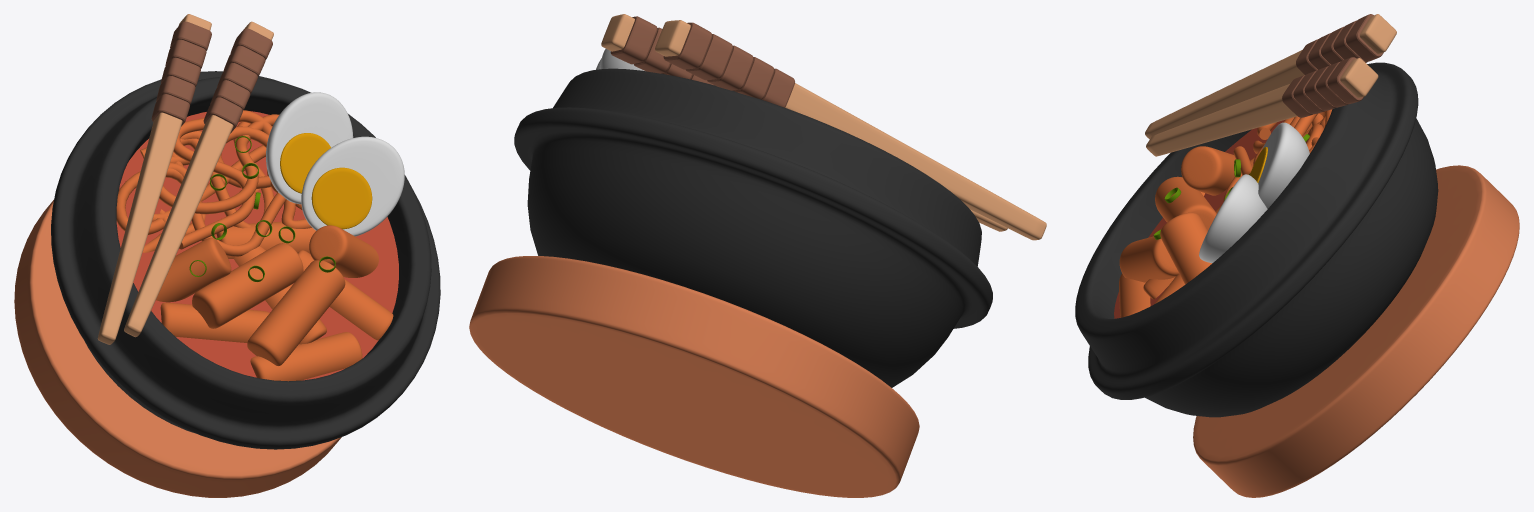
Rendered from rabokki.glb.
The picture shows the model from 3 angles, left to right: view 1: azimuth 30°, elevation 25°; view 2: azimuth 150°, elevation 25°; view 3: azimuth 270°, elevation 25°; orthographic projection. The views are drawn at different scales.
Visible parts, largest first — view 1: Sphere.006, Cylinder.079, NurbsPath, Circle.003, Cube.032, Cube.030, Sphere.008, Cylinder.092, Cylinder.088, Sphere.072, Cube.033, Cube.031 (+9 smaller); view 2: Sphere.006, Cylinder.079, Cube.032, Cube.033, Cube.031, Cube.030; view 3: Sphere.006, Cylinder.079, Cube.030, Cube.032, Sphere.008, Cube.031, Sphere.072, Cube.033, Cylinder.087, Cylinder.091, Cylinder.092, Cylinder.088 (+3 smaller).
Boxes of the visible parts, x1=… form: Sphere.006: x1=51, y1=71, x2=440, y2=449; Cylinder.079: x1=14, y1=200, x2=341, y2=497; NurbsPath: x1=116, y1=110, x2=311, y2=256; Circle.003: x1=116, y1=111, x2=398, y2=380; Cube.032: x1=97, y1=14, x2=211, y2=344; Cube.030: x1=124, y1=21, x2=273, y2=337; Sphere.008: x1=301, y1=136, x2=404, y2=236; Cylinder.092: x1=247, y1=260, x2=345, y2=365; Cylinder.088: x1=192, y1=243, x2=303, y2=328; Sphere.072: x1=266, y1=92, x2=353, y2=204; Cube.033: x1=151, y1=21, x2=211, y2=126; Cube.031: x1=203, y1=28, x2=272, y2=133; Sphere.006: x1=514, y1=68, x2=992, y2=387; Cylinder.079: x1=469, y1=256, x2=919, y2=497; Cube.032: x1=655, y1=20, x2=1046, y2=240; Cube.033: x1=663, y1=22, x2=794, y2=107; Cube.031: x1=610, y1=16, x2=714, y2=85; Cube.030: x1=601, y1=14, x2=1007, y2=231; Sphere.006: x1=1075, y1=62, x2=1438, y2=417; Cylinder.079: x1=1193, y1=165, x2=1519, y2=497; Cube.030: x1=1146, y1=58, x2=1378, y2=156; Cube.032: x1=1145, y1=14, x2=1396, y2=139; Sphere.008: x1=1199, y1=174, x2=1267, y2=263; Cube.031: x1=1282, y1=57, x2=1363, y2=117; Sphere.072: x1=1258, y1=122, x2=1309, y2=208; Cube.033: x1=1296, y1=14, x2=1383, y2=74; Cylinder.087: x1=1160, y1=212, x2=1211, y2=284; Cylinder.091: x1=1181, y1=146, x2=1235, y2=195; Cylinder.092: x1=1119, y1=236, x2=1179, y2=282; Cylinder.088: x1=1155, y1=176, x2=1216, y2=230.
Size of the model in its own units: 2.6 by 2.87 by 2.53.
